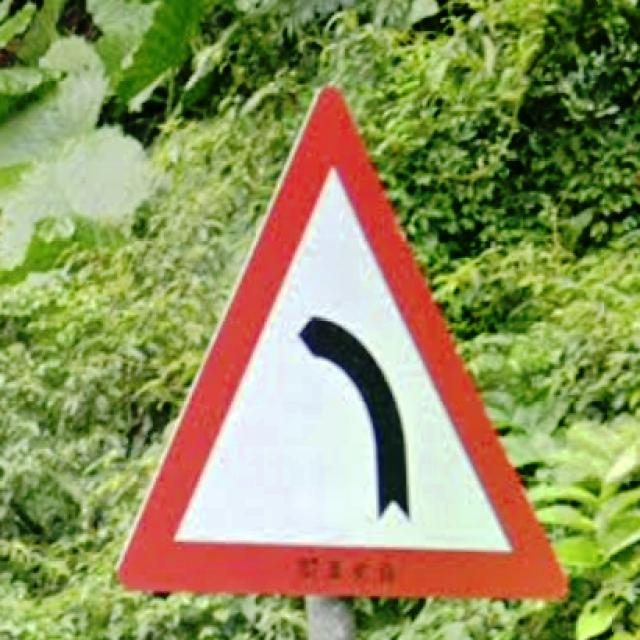leftbend: (117, 87, 567, 601)
